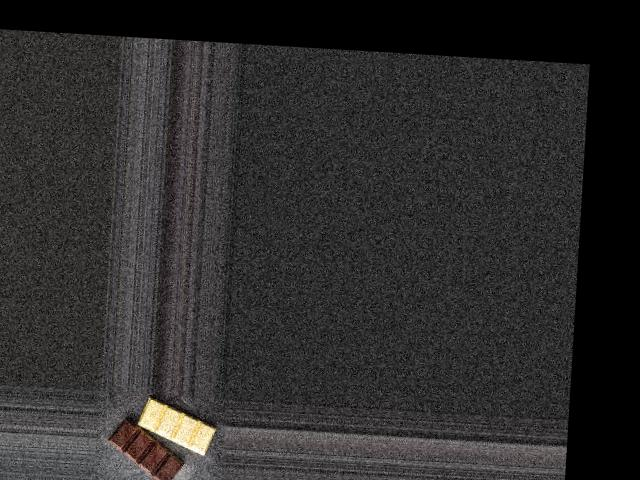chocolate: (106, 396, 222, 480)
